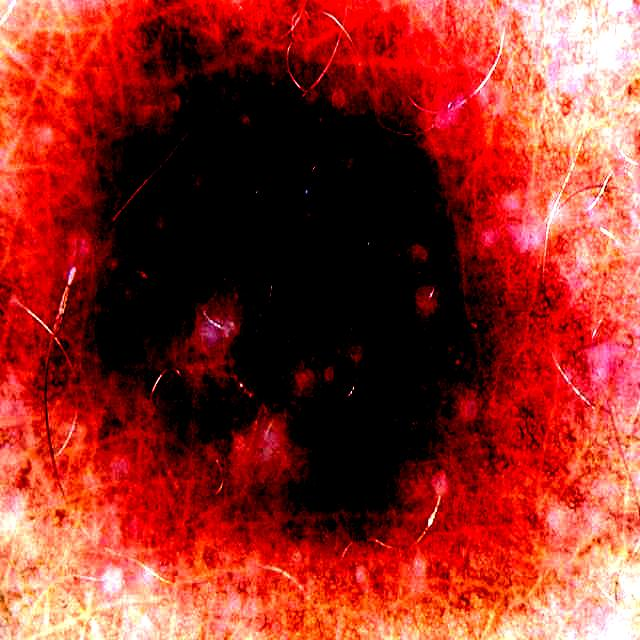DF: (59, 110, 498, 580)
